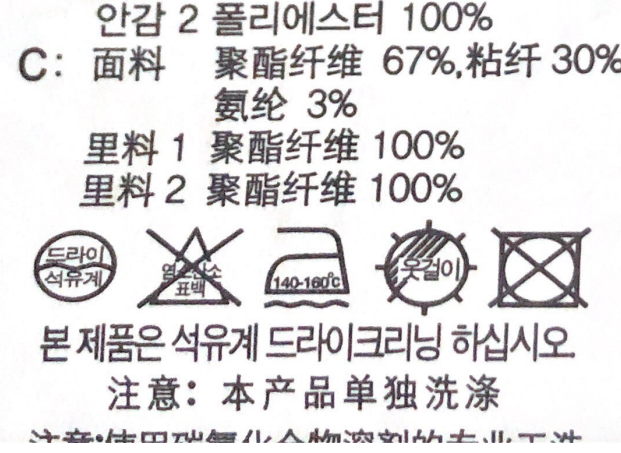KR_dry_clean_petroleum: (32, 223, 120, 308)
KR_hang_dry_in_shade: (377, 216, 474, 317)
KR_iron_medium_temp_with_cloth: (258, 219, 354, 316)
KR_no_bleach: (141, 220, 234, 312)
KR_no_tumble_dry: (487, 223, 587, 315)
